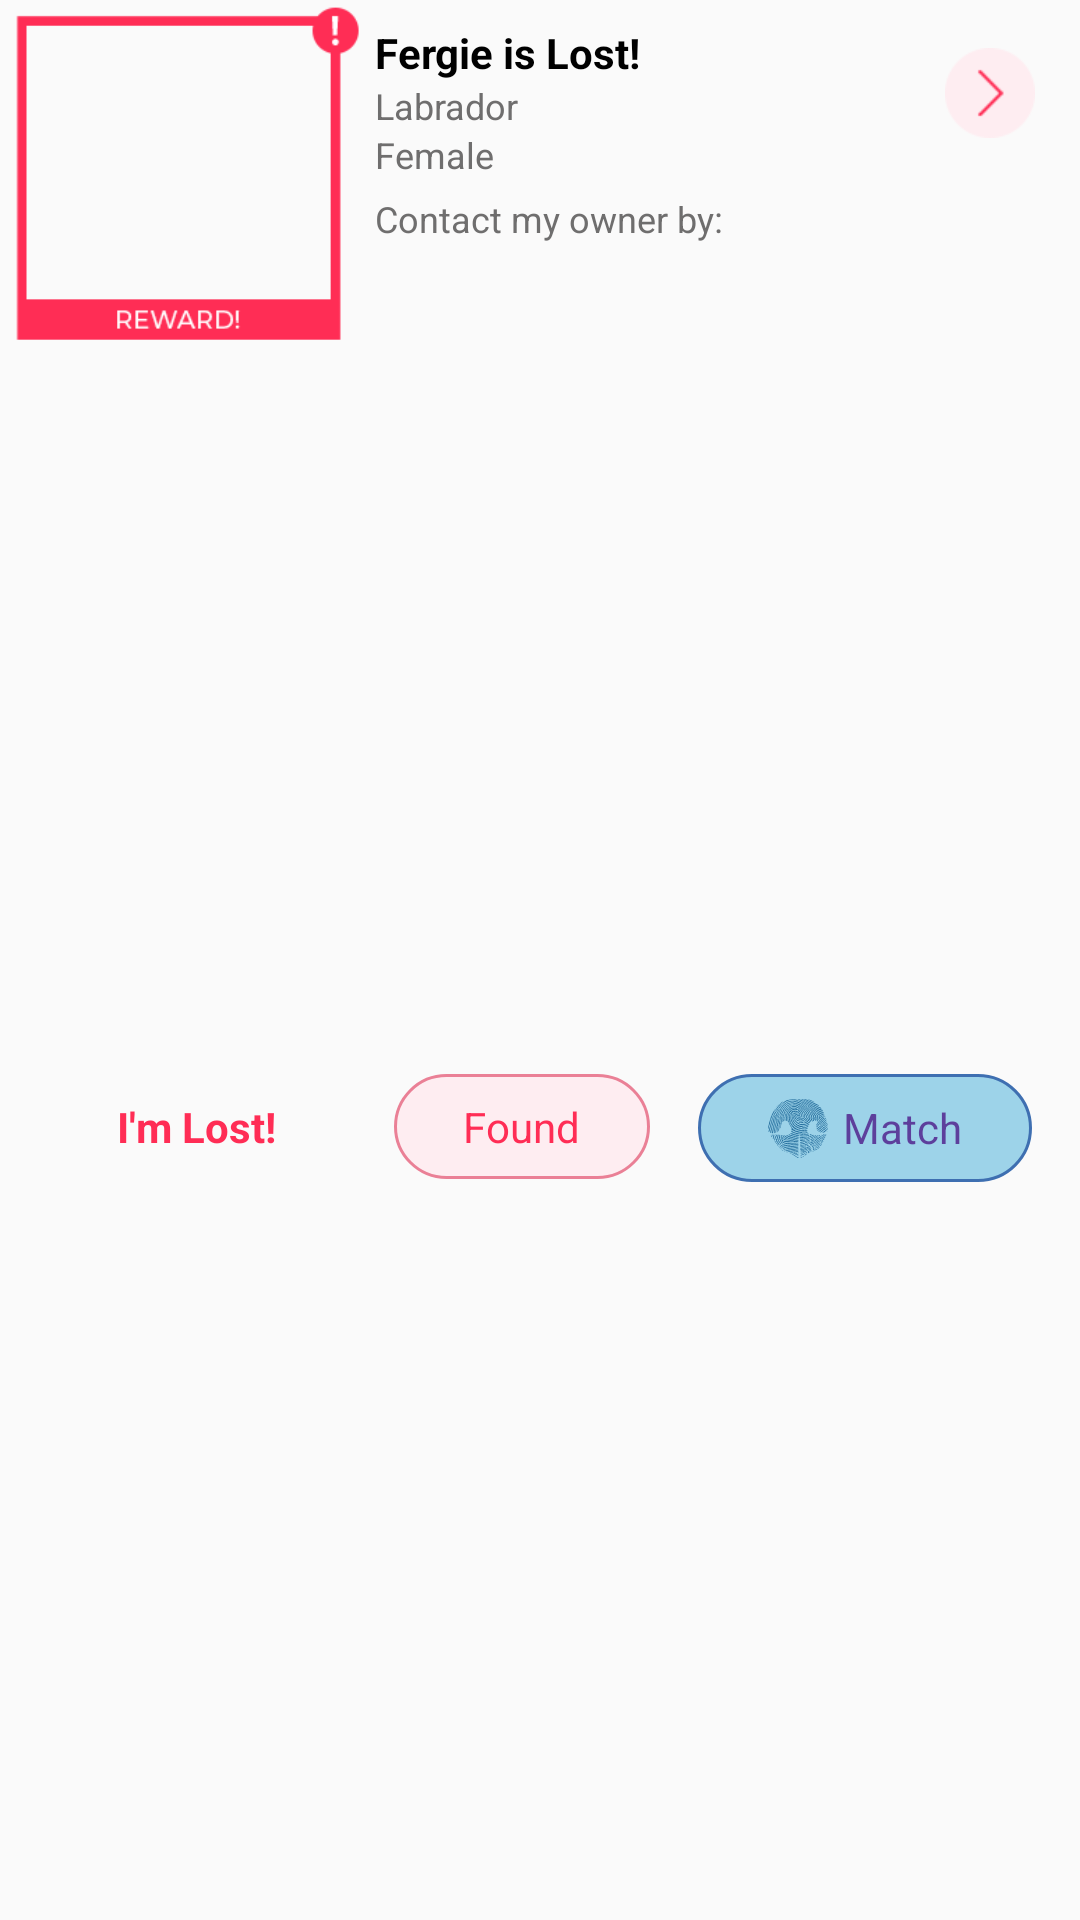

Named icons in this screenshot (1080px×1920px) and their centers, (x,y):
arrow alerts: (990,93)
snout: (798,1128)
